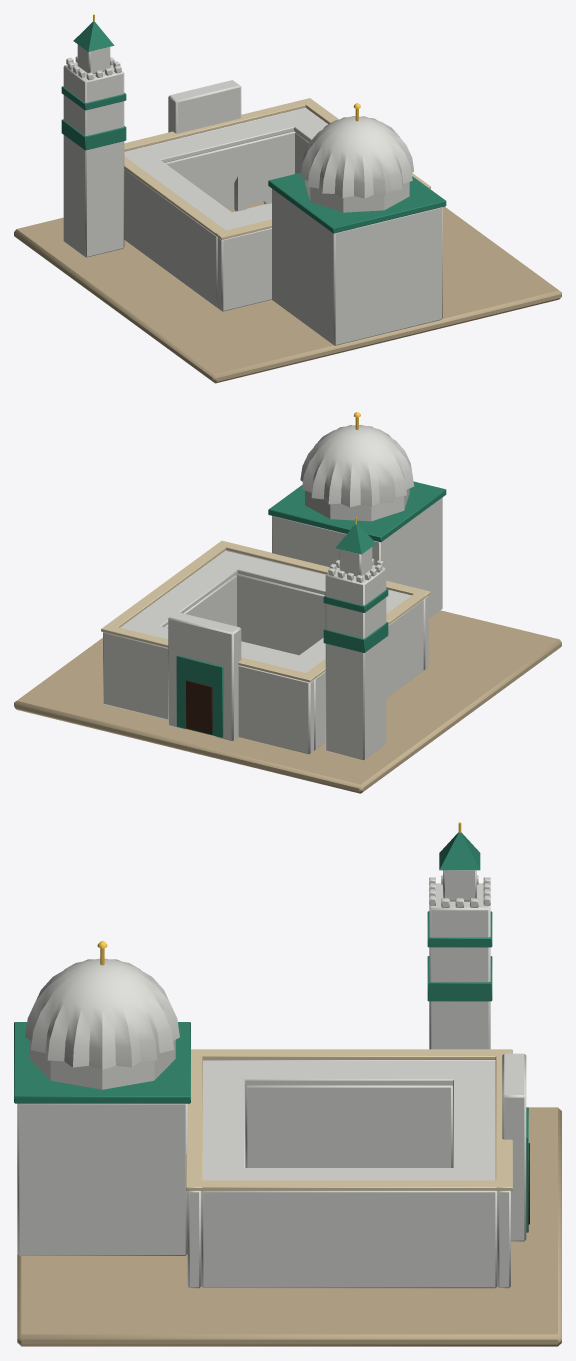
File: Monument_Mausoleum.fbx
The picture shows the model from 3 angles, top to bottom: view 1: azimuth 30°, elevation 25°; view 2: azimuth 150°, elevation 25°; view 3: azimuth 270°, elevation 25°; orthographic projection. The views are drawn at different scales.
Visible parts, largest first — view 1: Monument_Mausoleum; view 2: Monument_Mausoleum; view 3: Monument_Mausoleum.
Boxes of the visible parts, x1,y1,x2,y2 form: Monument_Mausoleum: [14, 14, 561, 383]; Monument_Mausoleum: [14, 412, 561, 793]; Monument_Mausoleum: [14, 822, 561, 1346].
Size of the model in its own units: 3.2 by 2.1 by 3.22.
